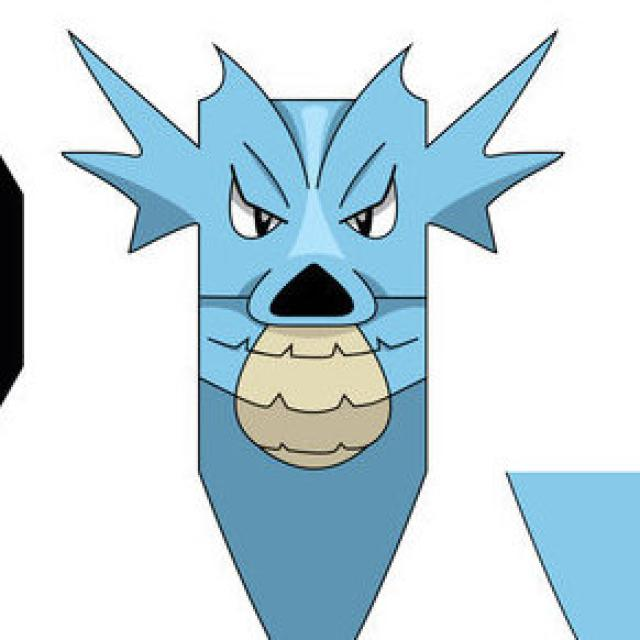Seadra: (119, 42, 501, 563)
